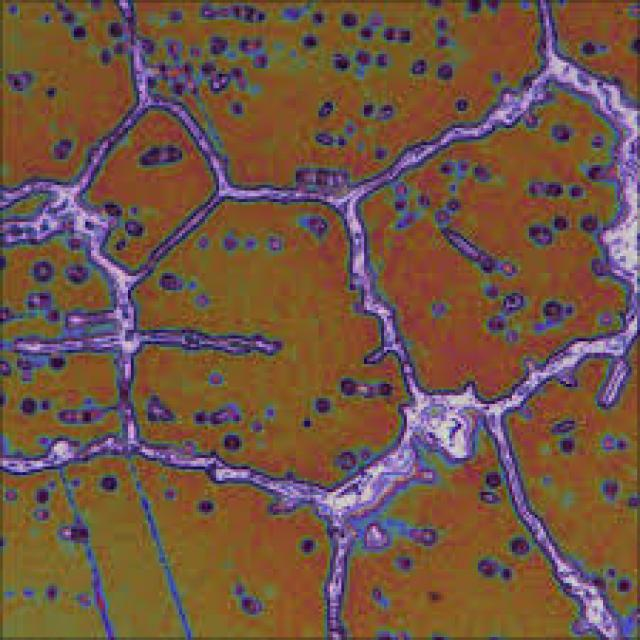crack: (367, 94, 626, 397)
